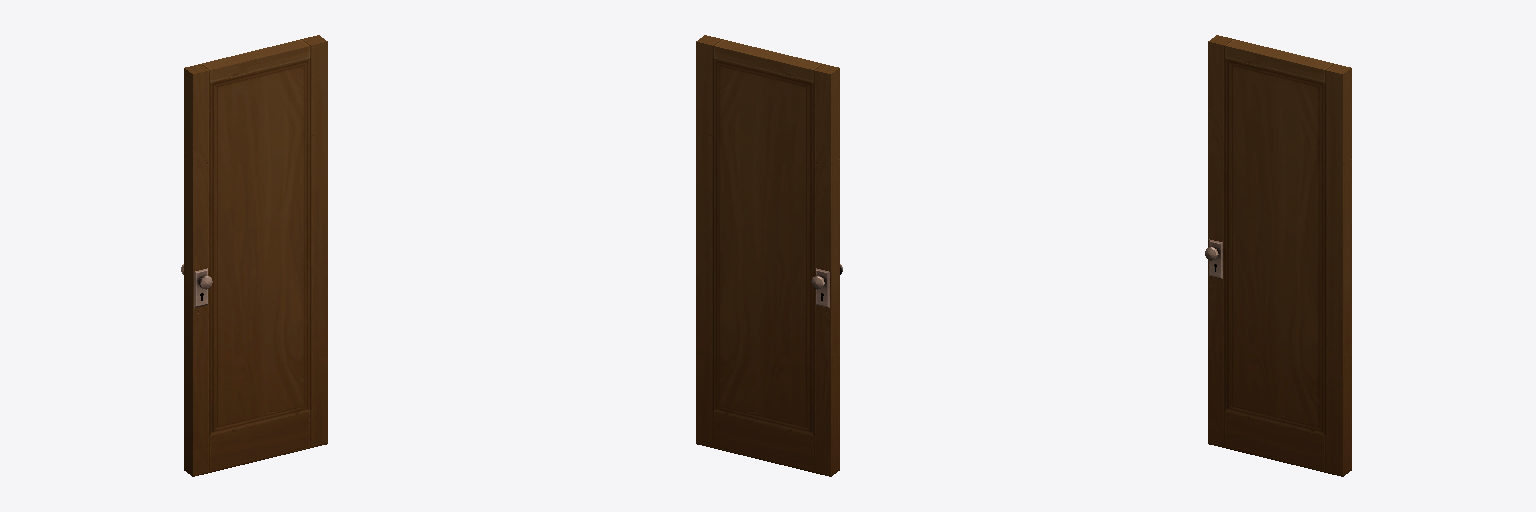
3 renders of one model, left to right at view 1: azimuth 30°, elevation 25°; view 2: azimuth 150°, elevation 25°; view 3: azimuth 330°, elevation 25°, orthographic.
Visible parts, largest first — view 1: s4studio_mesh_1, s4studio_mesh_2; view 2: s4studio_mesh_2, s4studio_mesh_1; view 3: s4studio_mesh_1, s4studio_mesh_2.
Boxes of the visible parts, x1,y1,x2,y2 form: s4studio_mesh_1: [189, 38, 327, 476]; s4studio_mesh_2: [181, 35, 321, 473]; s4studio_mesh_2: [696, 38, 834, 476]; s4studio_mesh_1: [702, 35, 842, 473]; s4studio_mesh_1: [1205, 38, 1346, 476]; s4studio_mesh_2: [1214, 35, 1351, 473].
Bounding box in the file's own units: 0.75 × 2.14 × 0.2106.
Materials: 2 (1 with a texture image).